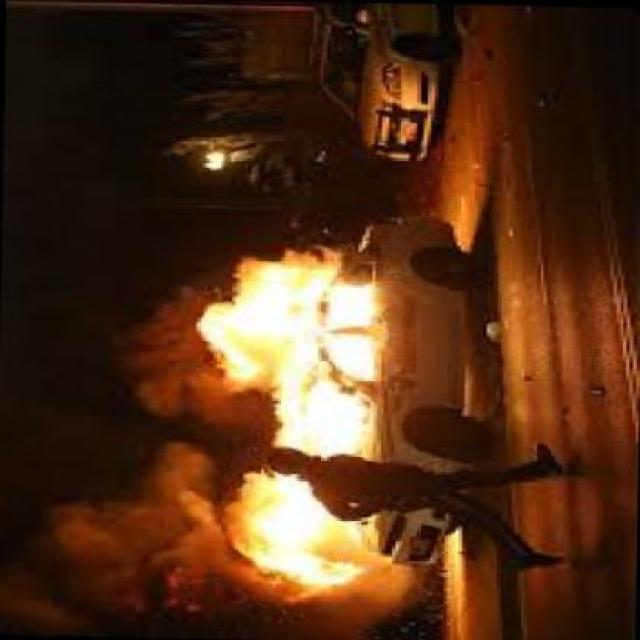Fire: (198, 247, 402, 596)
Smoke: (5, 250, 209, 640)
